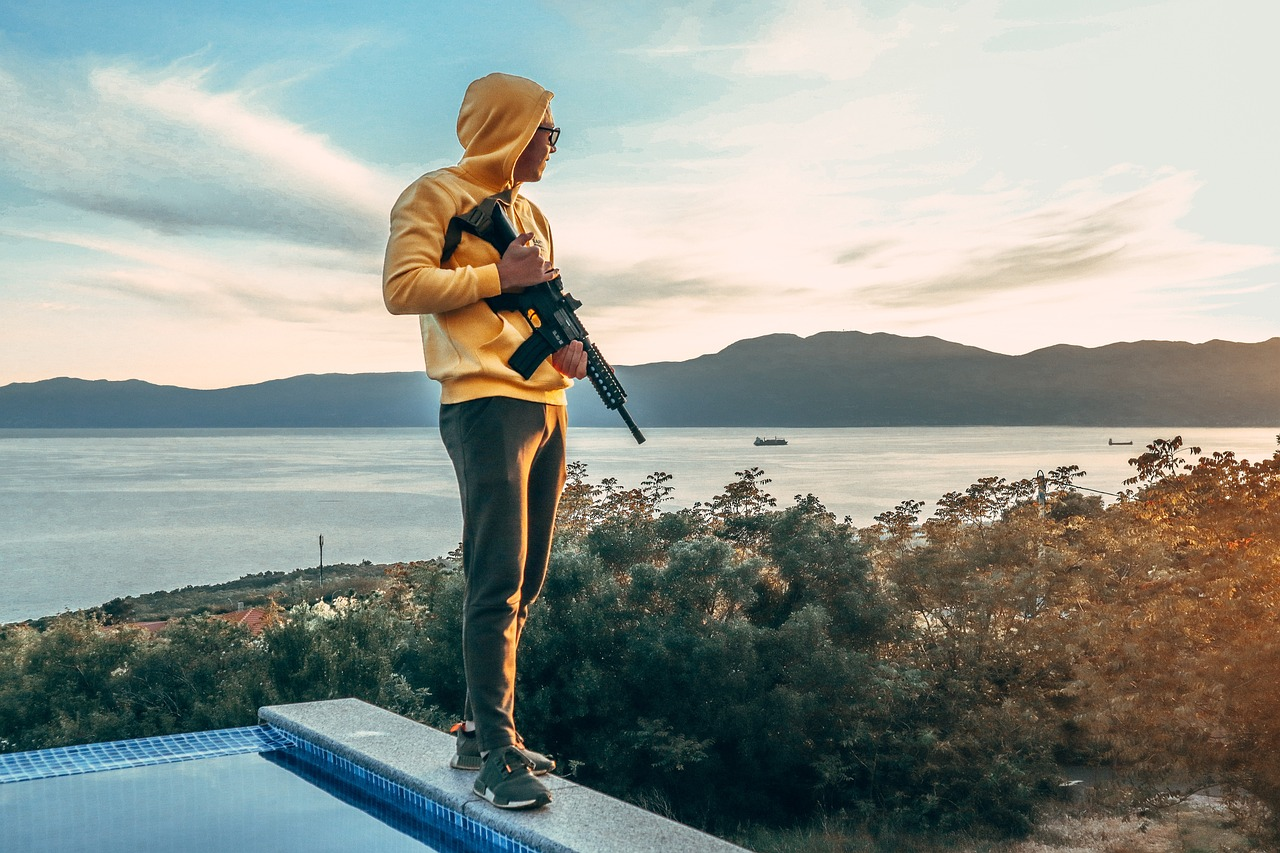gun: (444, 192, 648, 449)
